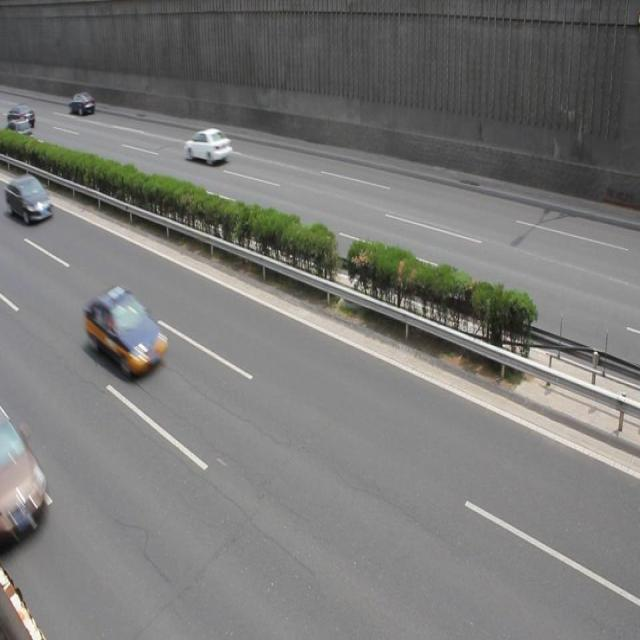car: (84, 286, 168, 378), (9, 173, 55, 224), (183, 126, 232, 166), (70, 92, 95, 115)
